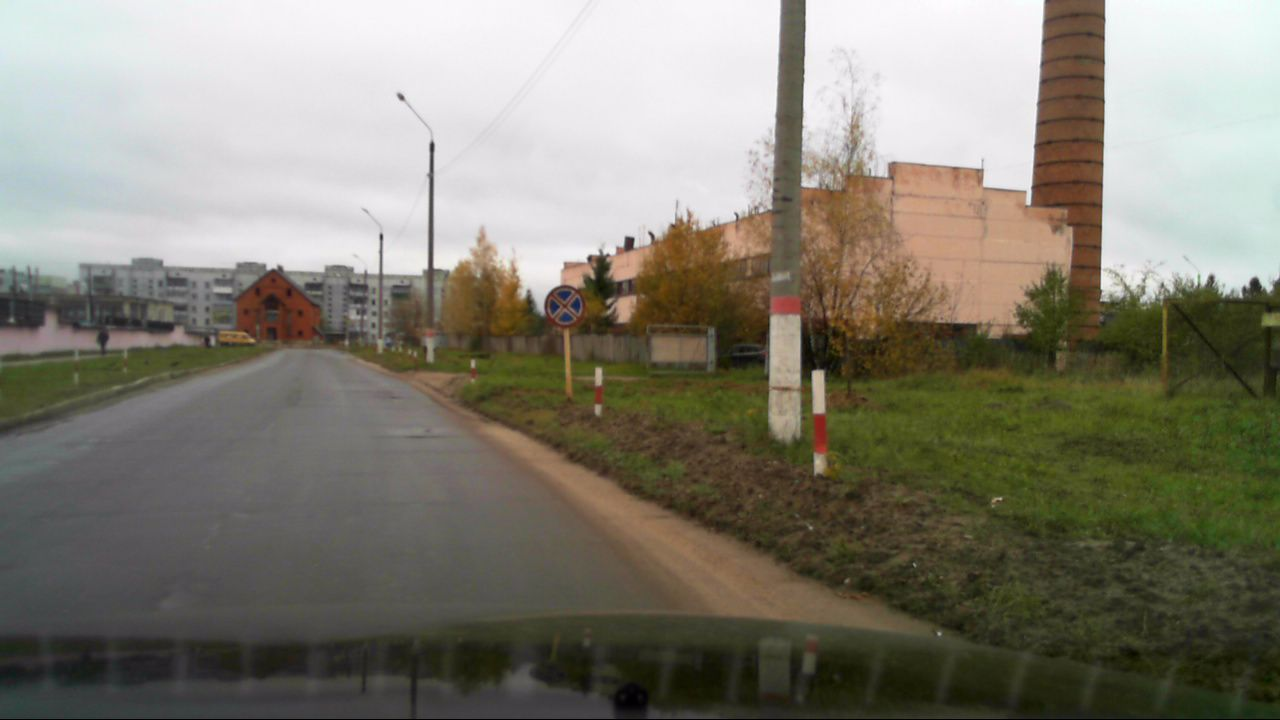No Parking: (544, 284, 586, 327)
